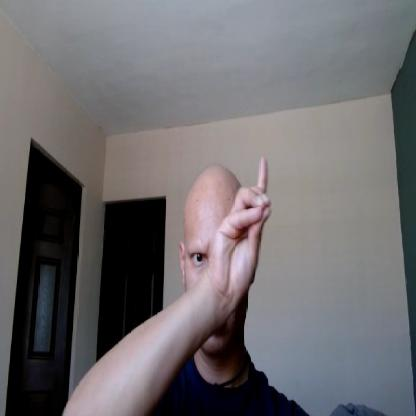D: (212, 155, 272, 308)
